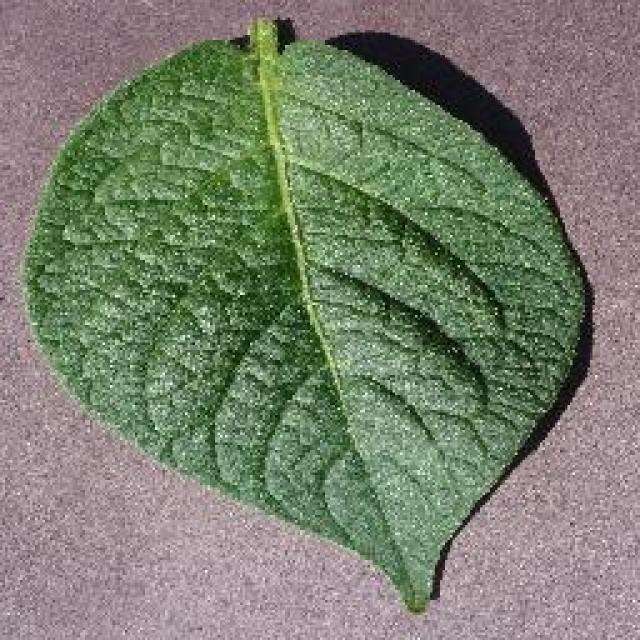Potato___healthy: (20, 16, 589, 615)
